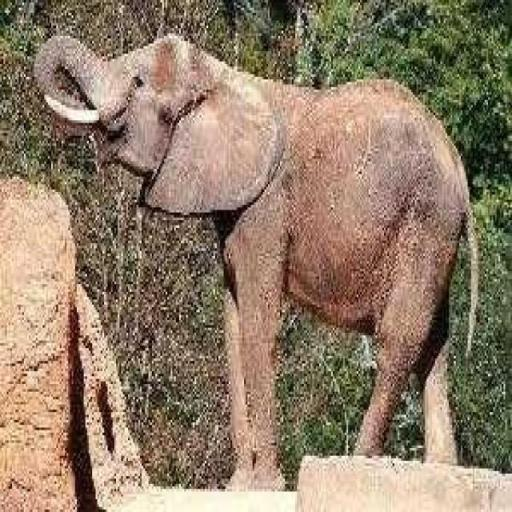Elephant: (32, 28, 480, 489)
